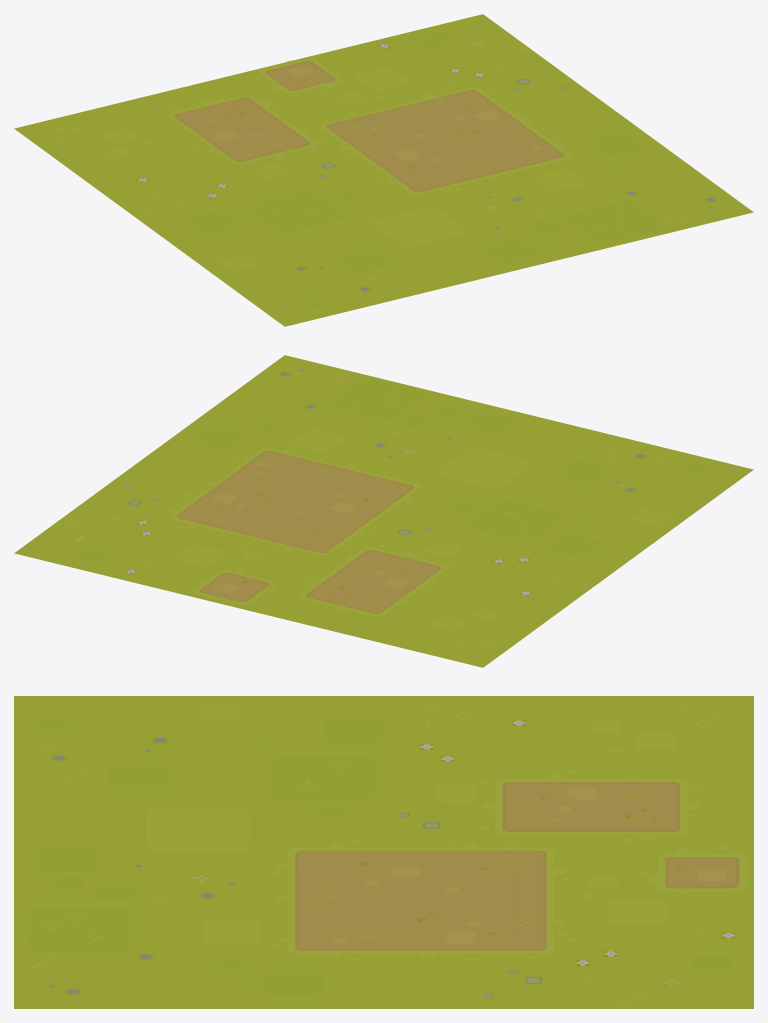
Rendered from C_grass2_01.fbx.
The picture shows the model from 3 angles, top to bottom: view 1: azimuth 30°, elevation 25°; view 2: azimuth 150°, elevation 25°; view 3: azimuth 270°, elevation 25°; orthographic projection. The views are drawn at different scales.
Visible parts, largest first — view 1: C_grass2_01; view 2: C_grass2_01; view 3: C_grass2_01.
Part boxes in pixels (x1=…): C_grass2_01: x1=14, y1=14, x2=753, y2=326; C_grass2_01: x1=14, y1=355, x2=753, y2=667; C_grass2_01: x1=14, y1=696, x2=753, y2=1008.
Bounding box in the file's own units: 50 × 0.1975 × 50.
1 material, 1 textured.
